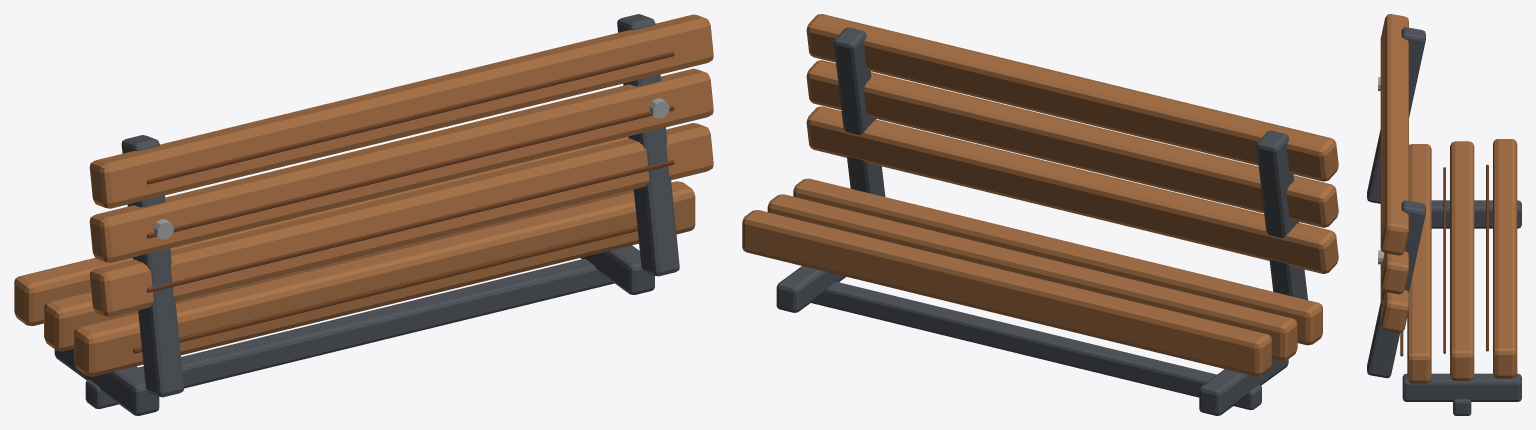
File: banco-de-praca-beco.glb
3 renders of one model, left to right at view 1: azimuth 30°, elevation 25°; view 2: azimuth 150°, elevation 25°; view 3: azimuth 270°, elevation 25°, orthographic. The views are drawn at different scales.
Parts seen in each view (by area): view 1: Tábua do encosto.002, Tábua do encosto.001, Tábua do encosto, Tábua do assento, Travessa inferior, Estrutura do encosto.001, Estrutura do encosto, Tábua do assento.002, Tábua do assento.001, Veio do encosto.002, Veio do encosto, Veio do encosto.001 (+3 smaller); view 2: Tábua do assento.002, Tábua do encosto, Tábua do encosto.002, Tábua do encosto.001, Tábua do assento.001, Tábua do assento, Travessa inferior, Estrutura do encosto.001, Estrutura do encosto, Pé de ferro, Pé de ferro.001; view 3: Tábua do encosto.002, Tábua do assento.001, Tábua do assento.002, Tábua do assento, Pé de ferro.001, Estrutura do encosto.001, Estrutura do encosto, Pé de ferro, Tábua do encosto, Tábua do encosto.001, Veio do assento.002, Veio do assento.001 (+2 smaller).
Part boxes in pixels (left/top/right/bottom): Tábua do encosto.002: left=89, top=14, right=713, bottom=208; Tábua do encosto.001: left=89, top=68, right=713, bottom=262; Tábua do encosto: left=89, top=123, right=713, bottom=316; Tábua do assento: left=74, top=181, right=695, bottom=376; Travessa inferior: left=85, top=258, right=614, bottom=408; Estrutura do encosto.001: left=617, top=14, right=679, bottom=276; Estrutura do encosto: left=121, top=135, right=183, bottom=397; Tábua do assento.002: left=14, top=136, right=628, bottom=325; Tábua do assento.001: left=44, top=189, right=633, bottom=351; Veio do encosto.002: left=147, top=51, right=674, bottom=184; Veio do encosto: left=147, top=160, right=674, bottom=292; Veio do encosto.001: left=147, top=106, right=674, bottom=238; Tábua do assento.002: left=742, top=210, right=1271, bottom=376; Tábua do encosto: left=806, top=106, right=1338, bottom=273; Tábua do encosto.002: left=806, top=14, right=1338, bottom=181; Tábua do encosto.001: left=806, top=60, right=1338, bottom=227; Tábua do assento.001: left=767, top=194, right=1297, bottom=360; Tábua do assento: left=793, top=178, right=1322, bottom=345; Travessa inferior: left=811, top=282, right=1261, bottom=409; Estrutura do encosto.001: left=833, top=27, right=885, bottom=196; Estrutura do encosto: left=1256, top=130, right=1307, bottom=299; Pé de ferro: left=1199, top=358, right=1288, bottom=415; Pé de ferro.001: left=776, top=266, right=845, bottom=312; Tábua do encosto.002: left=1380, top=14, right=1408, bottom=255; Tábua do assento.001: left=1450, top=141, right=1474, bottom=380; Tábua do assento.002: left=1493, top=139, right=1517, bottom=378; Tábua do assento: left=1407, top=144, right=1431, bottom=383; Pé de ferro.001: left=1402, top=373, right=1521, bottom=401; Estrutura do encosto.001: left=1367, top=200, right=1425, bottom=378; Estrutura do encosto: left=1367, top=27, right=1425, bottom=203; Pé de ferro: left=1431, top=200, right=1521, bottom=228; Tábua do encosto: left=1380, top=287, right=1408, bottom=332; Tábua do encosto.001: left=1380, top=248, right=1408, bottom=294; Veio do assento.002: left=1486, top=164, right=1488, bottom=351; Veio do assento.001: left=1443, top=167, right=1445, bottom=353.
Size of the model in its own units: 3.3 by 1.5 by 1.01.
